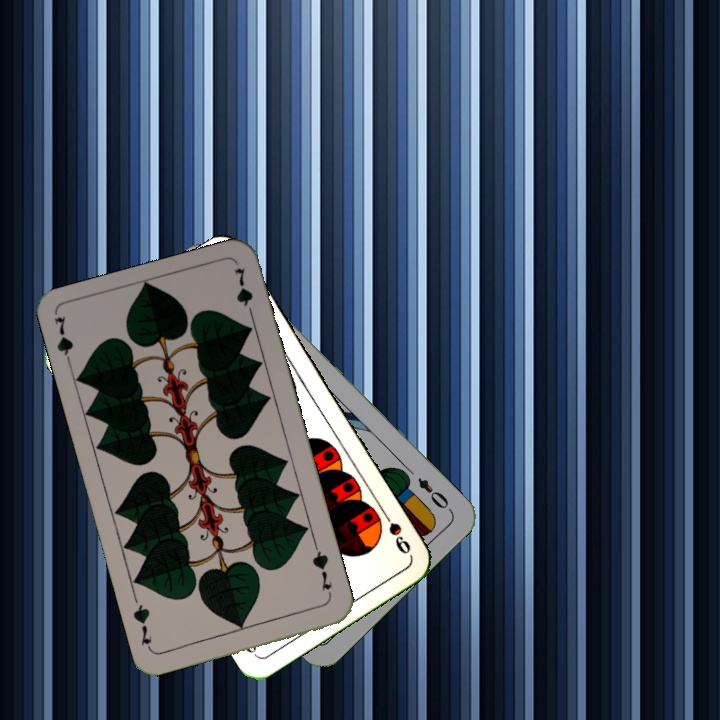EO: (413, 473, 451, 512)
G7: (49, 312, 76, 371), (308, 542, 335, 600)
S9: (376, 503, 414, 557)
